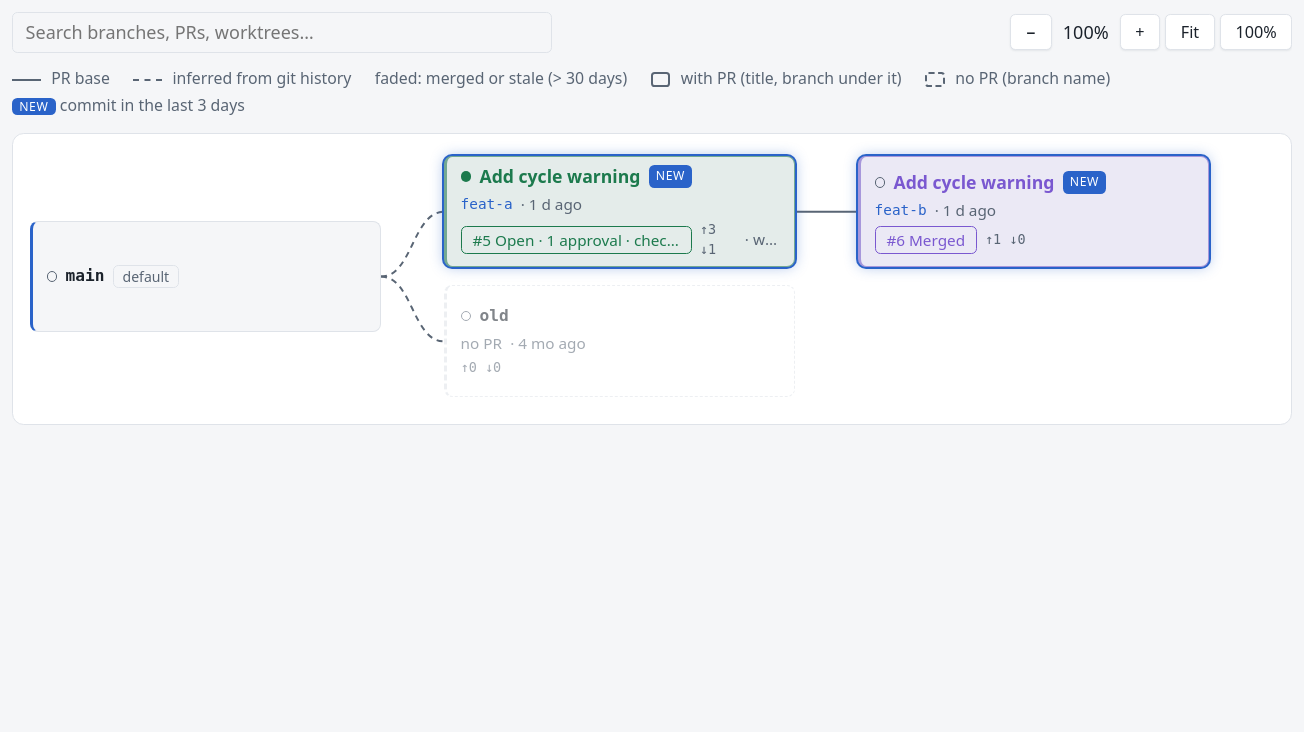
it: BranchGraph › explains the base when it comes from the PR
The width and height of the screenshot is (1304, 732).
What coordinates should you click on to do the following:
click the button "Add cycle warning new feat-b · 1 d ago #6 Merged ↑1 ↓0"
I would click on:
 (974, 182)
Its box is [858,156,1209,267].
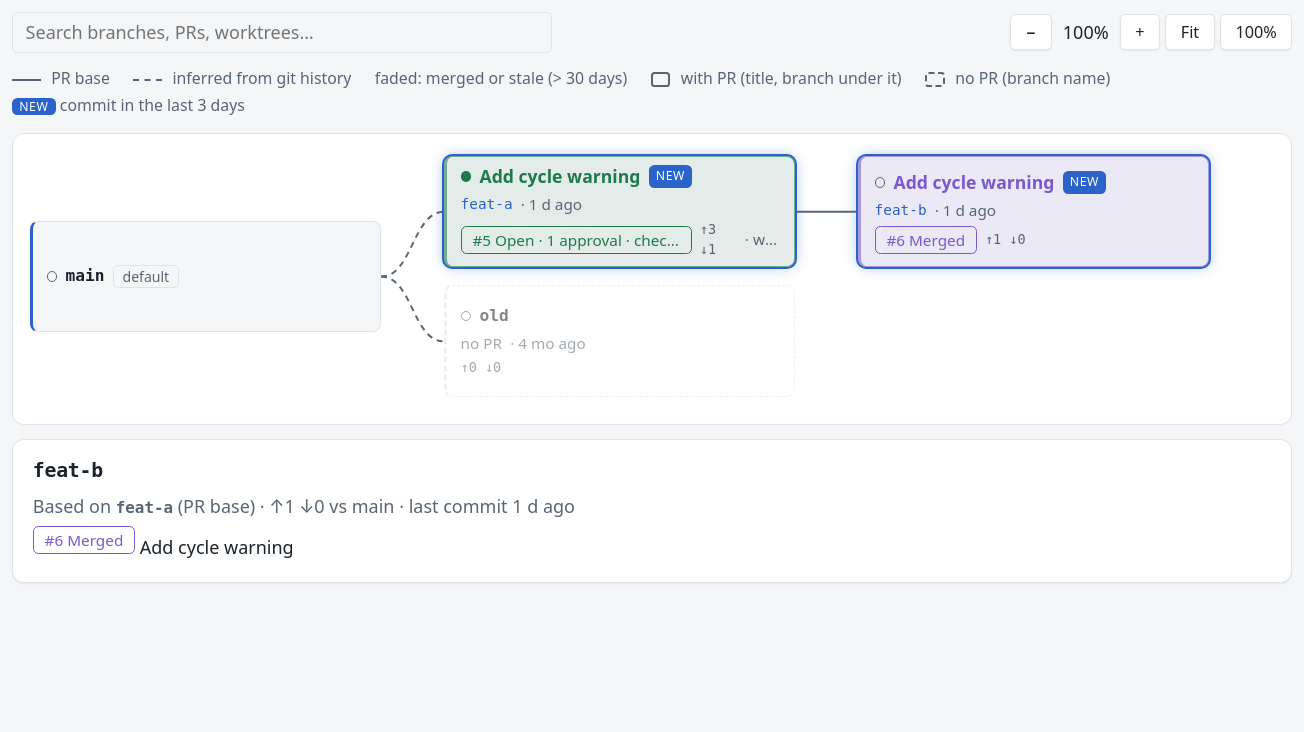
Check: the element with class "detail" shows "PR base", box [173,494,575,518]
